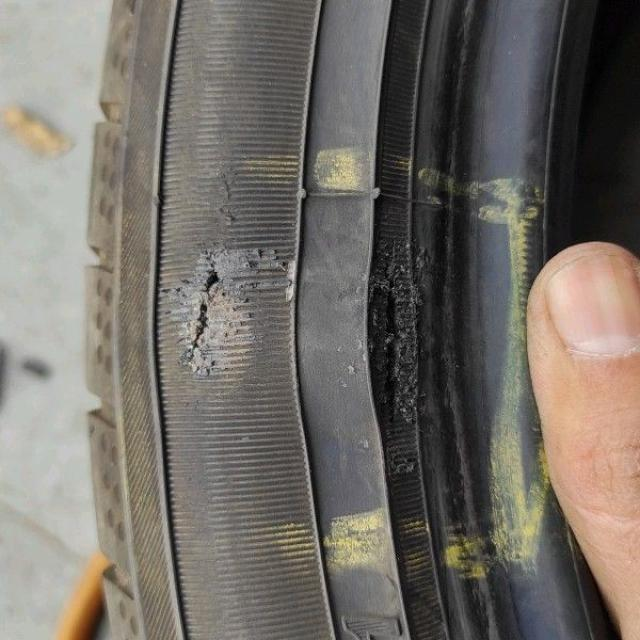Bulge: (280, 258, 423, 452)
